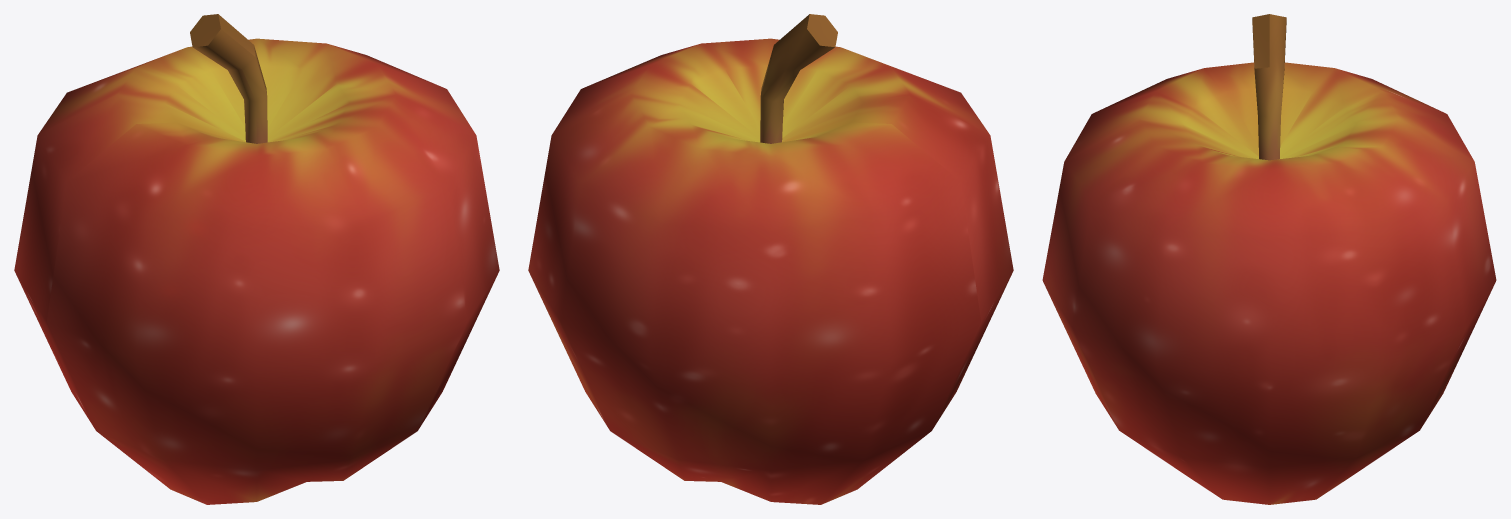
Rendered from Apple.FBX.
3 views of the same model, side by side, from view 1: azimuth 30°, elevation 25°; view 2: azimuth 150°, elevation 25°; view 3: azimuth 270°, elevation 25° (orthographic). The views are drawn at different scales.
Visible parts, largest first — view 1: Apple; view 2: Apple; view 3: Apple.
Part boxes in pixels (x1,y1,x2,y2): Apple: (14, 14, 499, 504); Apple: (528, 14, 1013, 504); Apple: (1042, 14, 1496, 504).
Bounding box in the file's own units: 18.83 × 19.85 × 18.83.
